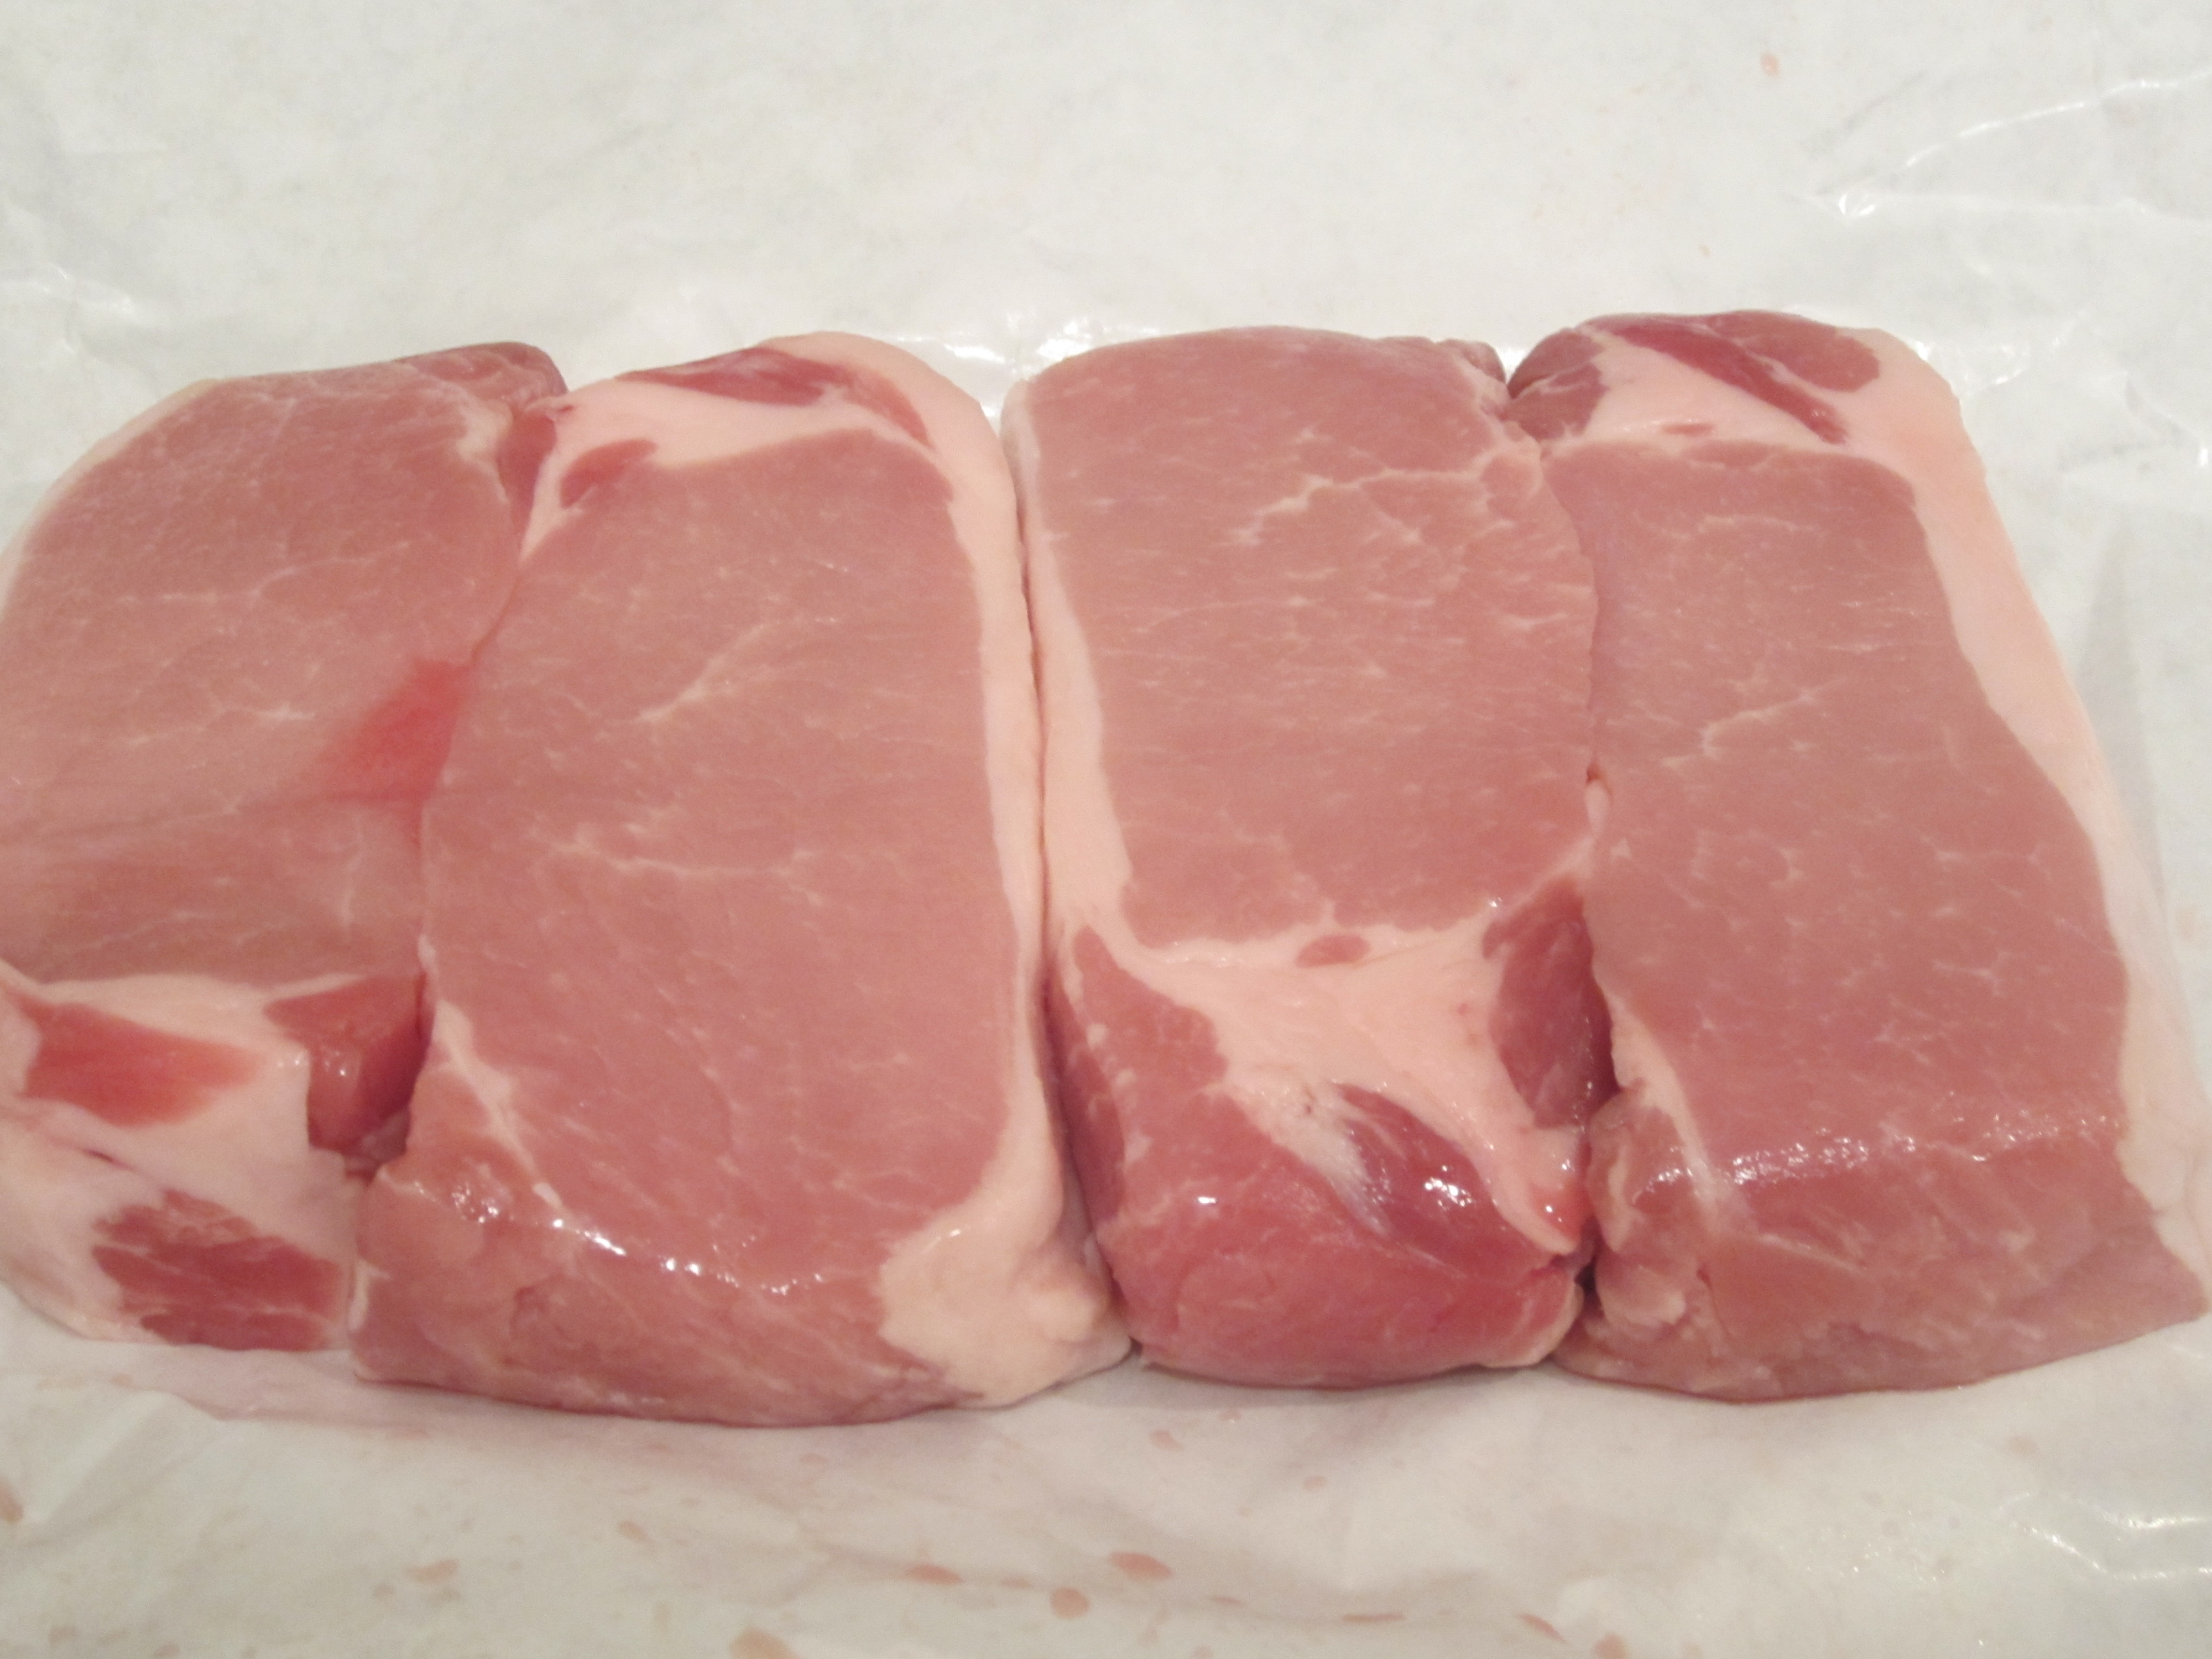Pork: (350, 291, 1071, 1525), (1484, 281, 2181, 1455), (0, 296, 624, 1406), (1021, 291, 1609, 1396)
